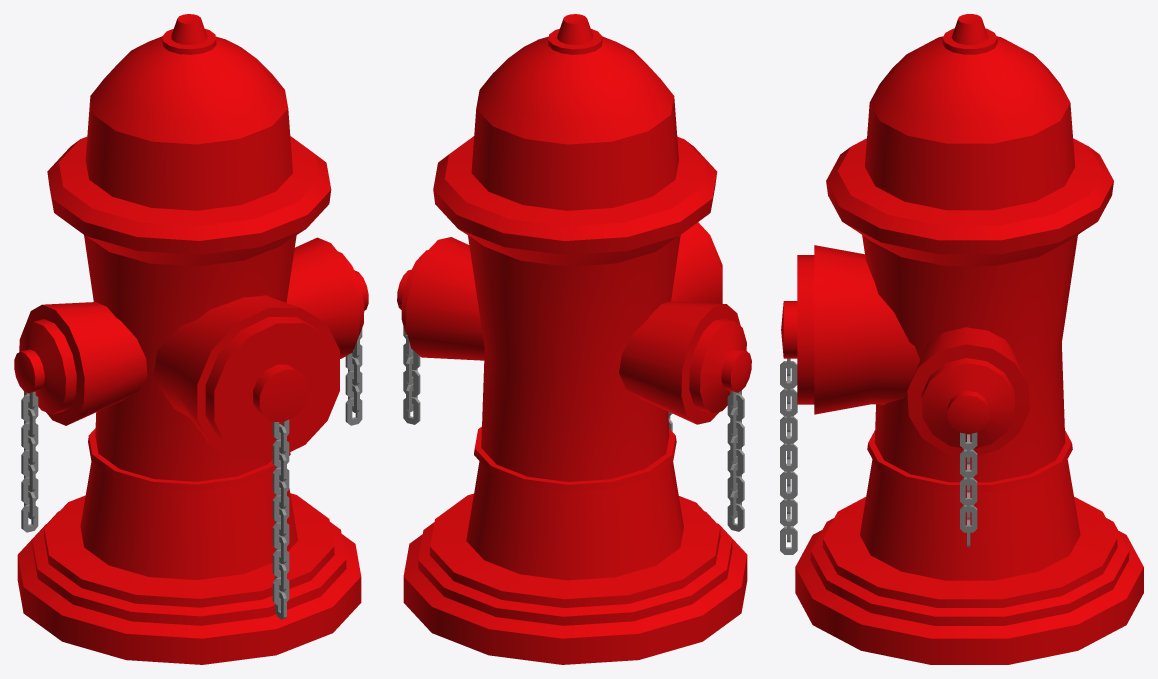
The model's file is Hidrante.fbx.
3 renders of one model, left to right at view 1: azimuth 30°, elevation 25°; view 2: azimuth 150°, elevation 25°; view 3: azimuth 270°, elevation 25°, orthographic.
Visible parts, largest first — view 1: Cylinder, Cylinder.002, Cylinder.001; view 2: Cylinder, Cylinder.001, Cylinder.002; view 3: Cylinder, Cylinder.002, Cylinder.001.
Boxes of the visible parts, x1,y1,x2,y2 form: Cylinder: (17,14,361,664); Cylinder.002: (152,295,339,461); Cylinder.001: (14,237,368,425); Cylinder: (403,14,747,664); Cylinder.001: (397,237,751,424); Cylinder.002: (671,222,722,303); Cylinder: (795,14,1143,664); Cylinder.002: (781,245,920,414); Cylinder.001: (907,327,1029,455).
Size of the model in its own units: 276 by 439 by 252.
